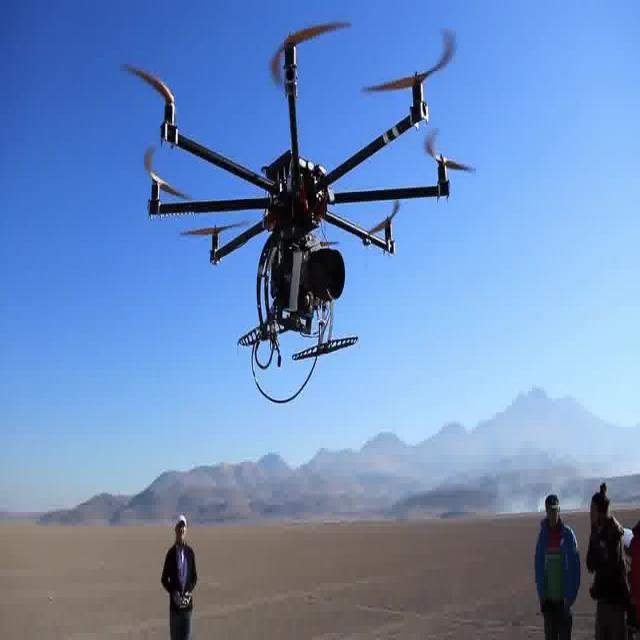drones: (111, 5, 483, 414)
